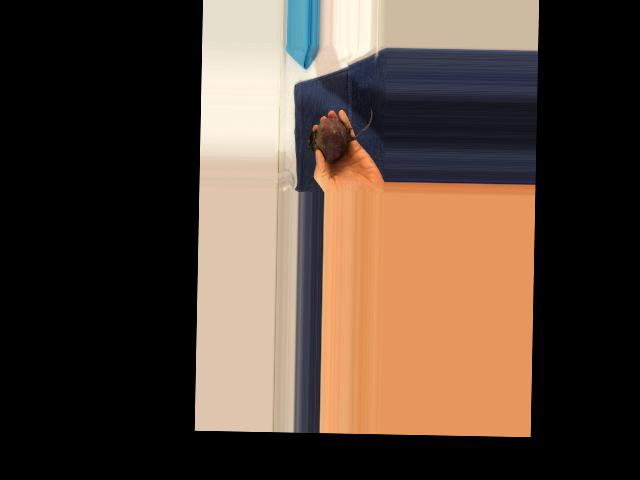beet: (308, 107, 372, 163)
